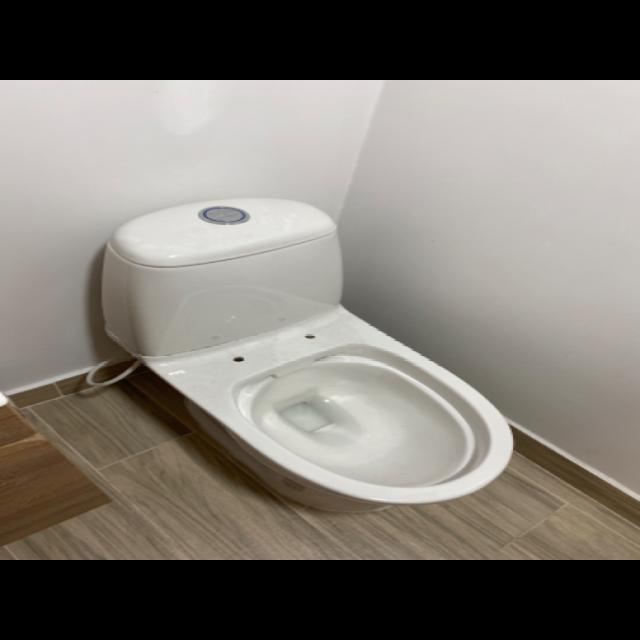toilet: (89, 193, 521, 514)
